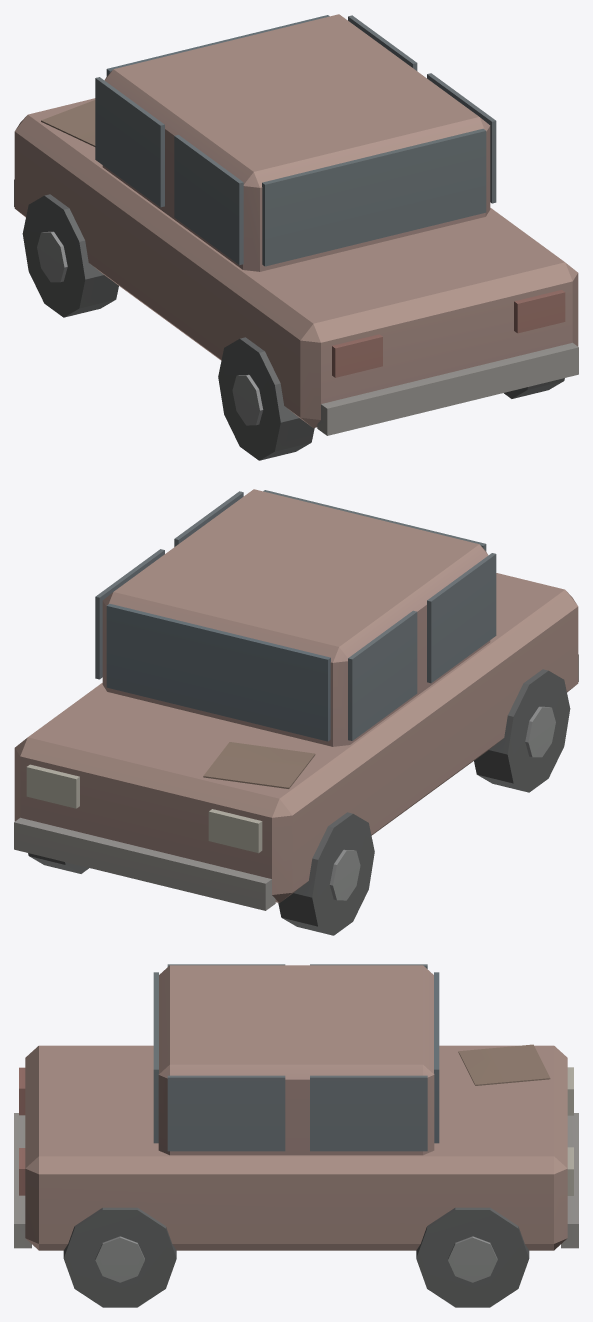
The model's file is AC_CarRust.glb.
3 views of the same model, one above another, from view 1: azimuth 30°, elevation 25°; view 2: azimuth 150°, elevation 25°; view 3: azimuth 270°, elevation 25° (orthographic). The views are drawn at different scales.
Parts seen in each view (by area): view 1: Body; view 2: Body; view 3: Body.
Part boxes in pixels (bbox=[...]): Body: bbox=[14, 14, 578, 460]; Body: bbox=[14, 489, 578, 935]; Body: bbox=[14, 964, 578, 1307].
Bounding box in the file's own units: 6.82 × 5.59 × 12.5.
